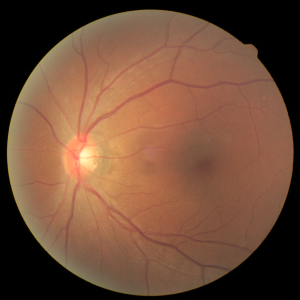healthy_eye: (28, 92, 236, 214)
